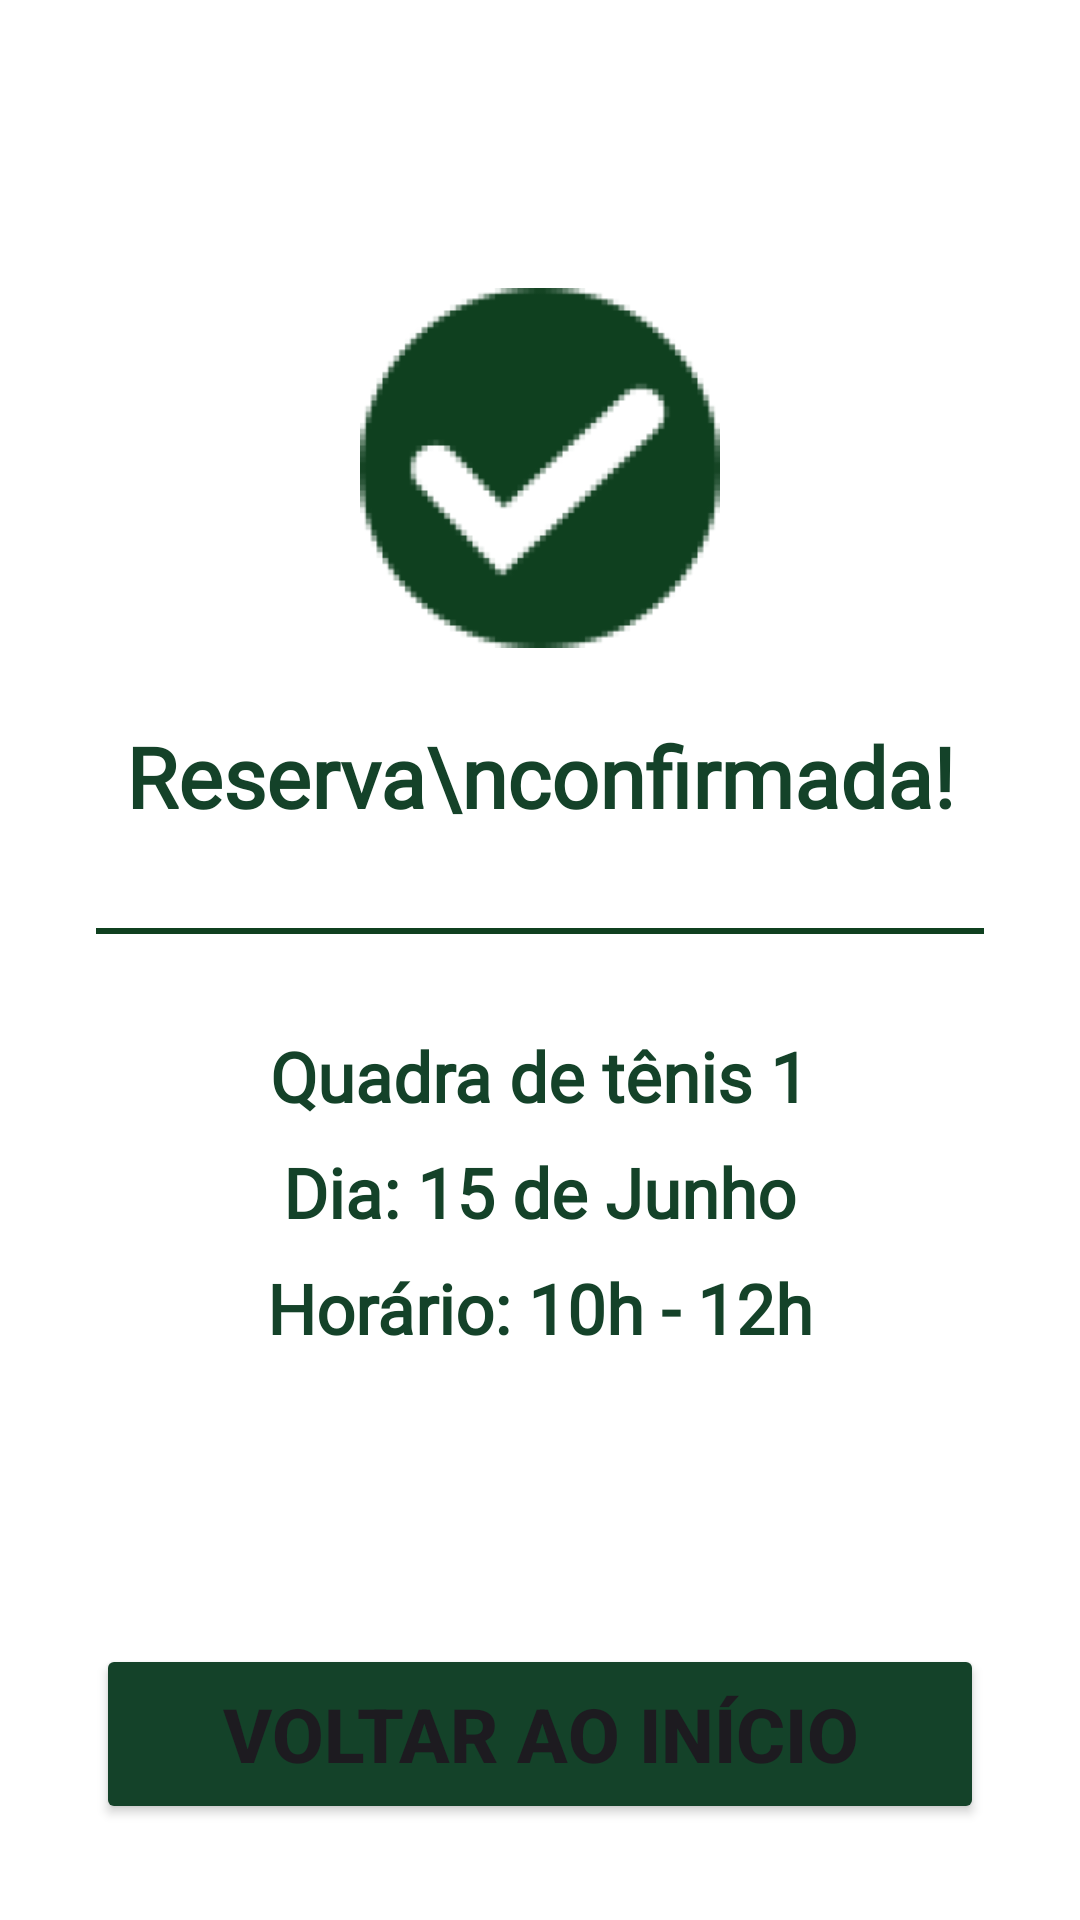

Icons on this 1080px x 1920px Android screen, each with its box as (x1, y1, x2, y2):
check: (360, 288, 720, 648)
